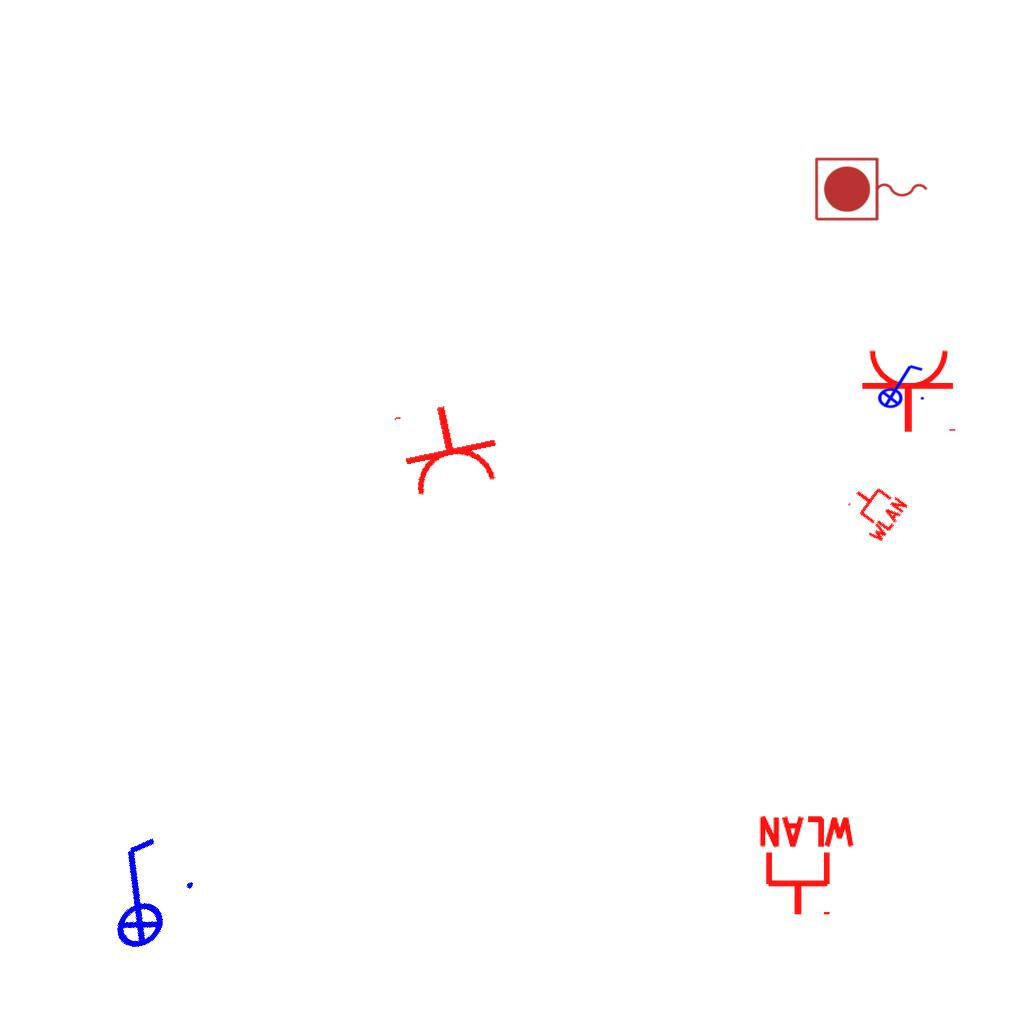Ausschalter_beleuchtet: (63, 821, 211, 967), (871, 361, 927, 409)
Schukosteckdose_einfach: (389, 395, 506, 501), (860, 347, 960, 434)
WLAN: (755, 814, 859, 919), (837, 473, 911, 547)
Zugtaster: (811, 154, 933, 226)
